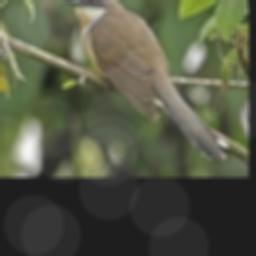Cuckoo: (60, 0, 228, 160)
